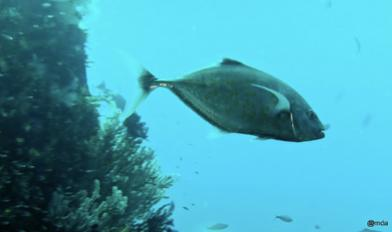Carangidae -Jacks-: (107, 47, 330, 148)
